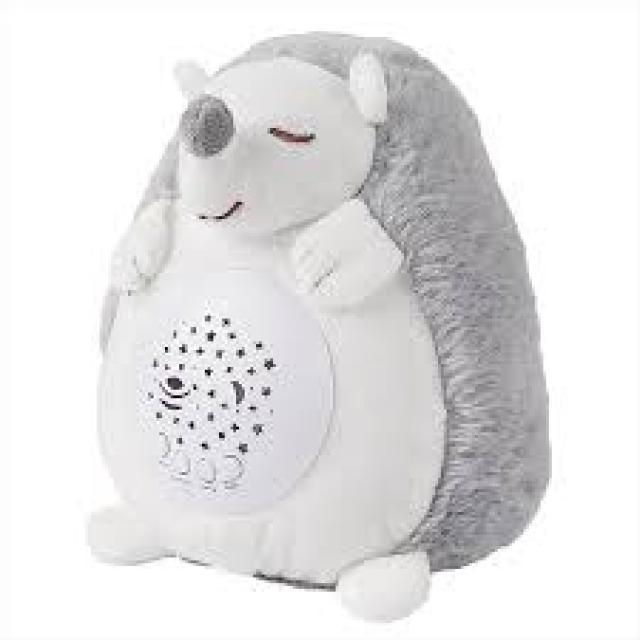soft-toy: (91, 34, 550, 620)
